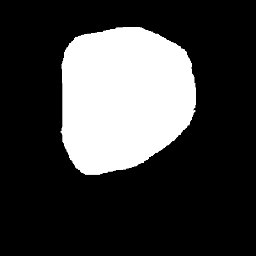mass: (59, 31, 198, 180)
